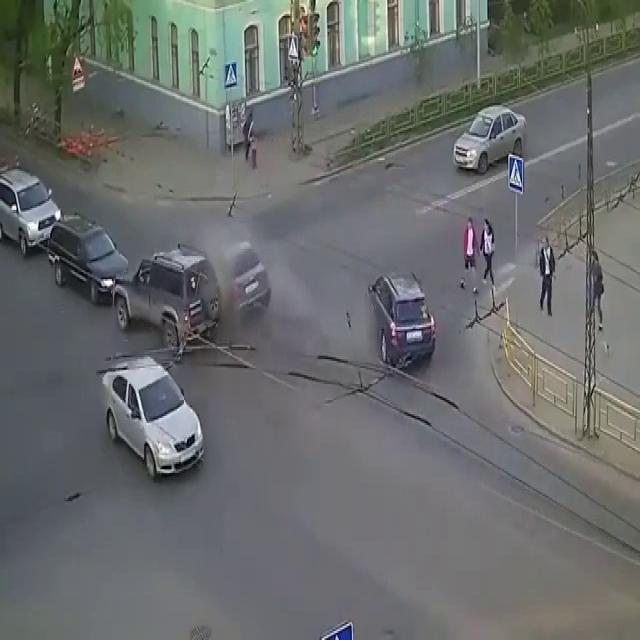moderate: (108, 217, 274, 364)
